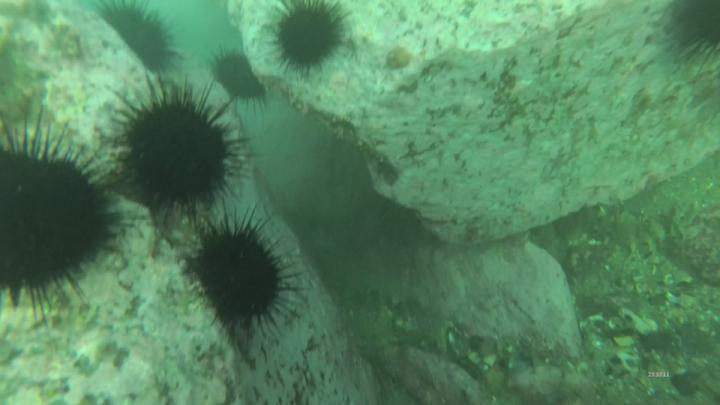echinus: (1, 107, 122, 331), (95, 71, 258, 235), (181, 196, 309, 347), (88, 1, 189, 77), (267, 1, 361, 76), (205, 43, 285, 121)
